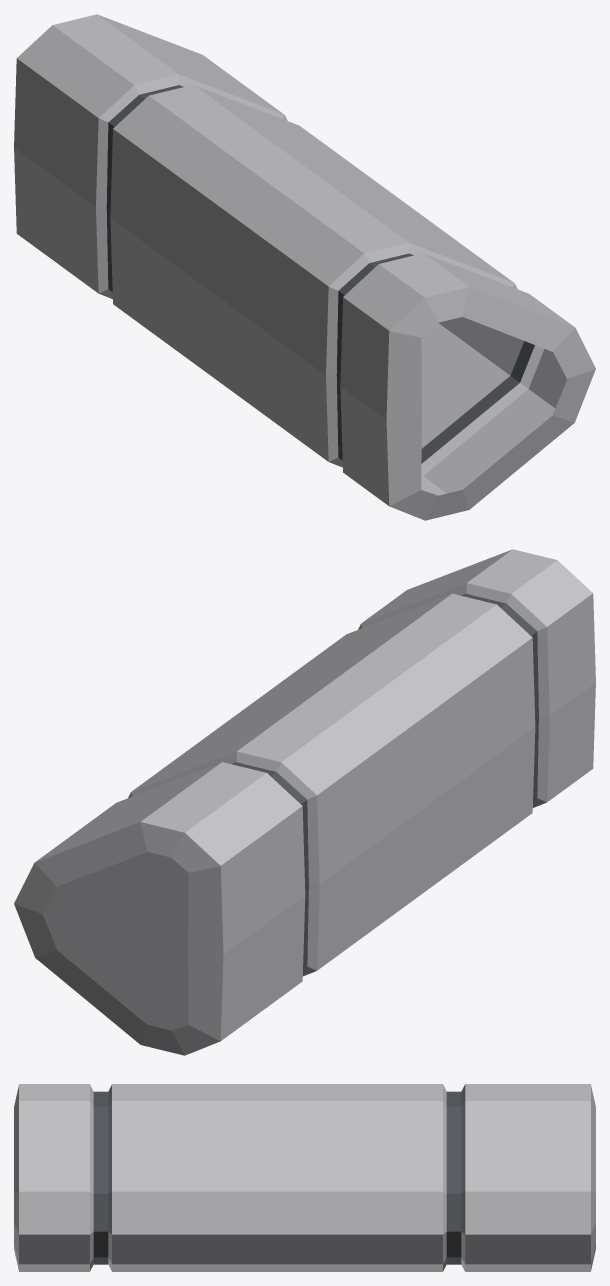
Rendered from Mothership_02_Thrust_Struts.fbx.
3 renders of one model, top to bottom at view 1: azimuth 30°, elevation 25°; view 2: azimuth 150°, elevation 25°; view 3: azimuth 270°, elevation 25°, orthographic. The views are drawn at different scales.
Parts seen in each view (by area): view 1: Mothership_02_Thrust_Struts; view 2: Mothership_02_Thrust_Struts; view 3: Mothership_02_Thrust_Struts.
Boxes of the visible parts, x1,y1,x2,y2 form: Mothership_02_Thrust_Struts: [14, 14, 595, 520]; Mothership_02_Thrust_Struts: [14, 549, 595, 1055]; Mothership_02_Thrust_Struts: [14, 1084, 595, 1271].
Bounding box in the file's own units: 400 × 407 × 1255.
Materials: 1 (1 with a texture image).
